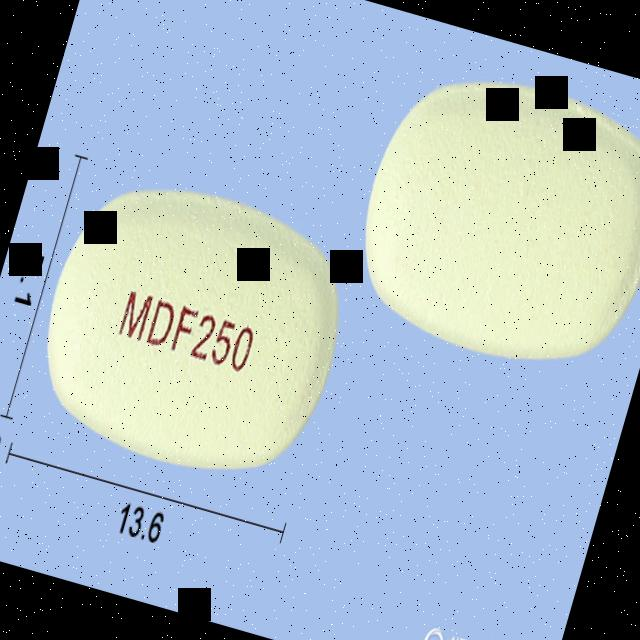Clarid - 250mg: (13, 156, 371, 506)
